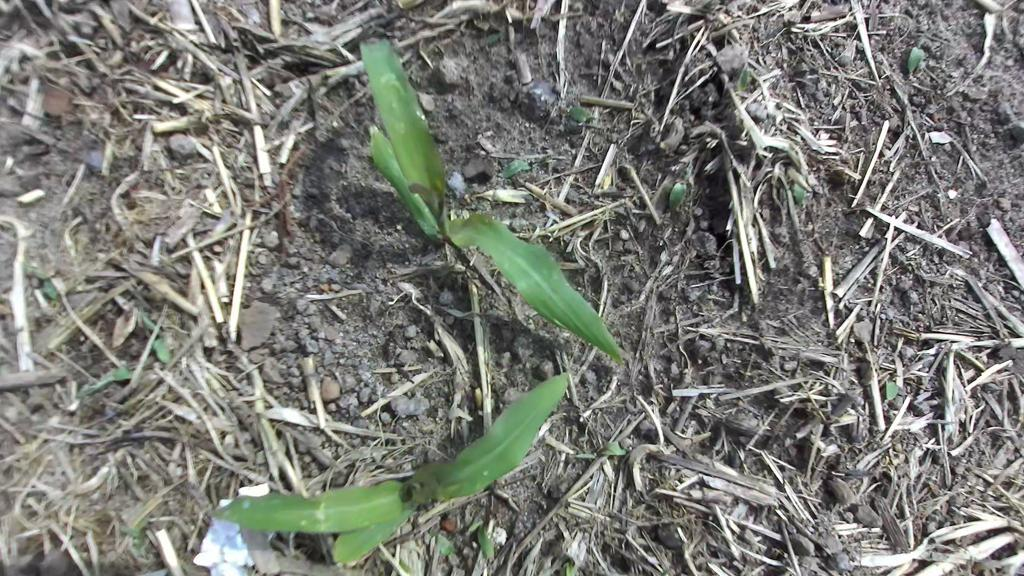BroWeed: (78, 357, 134, 408), (464, 518, 505, 565), (572, 438, 626, 461), (116, 516, 151, 551), (149, 335, 175, 367), (137, 307, 163, 338), (565, 103, 596, 127), (431, 534, 457, 559), (905, 46, 926, 75), (735, 60, 754, 92), (39, 279, 63, 303), (424, 523, 441, 556), (484, 26, 506, 46), (561, 558, 579, 576), (886, 378, 898, 401), (396, 559, 413, 575), (793, 182, 804, 205), (473, 387, 484, 410)
Maize: (306, 27, 632, 412), (202, 370, 605, 576)
